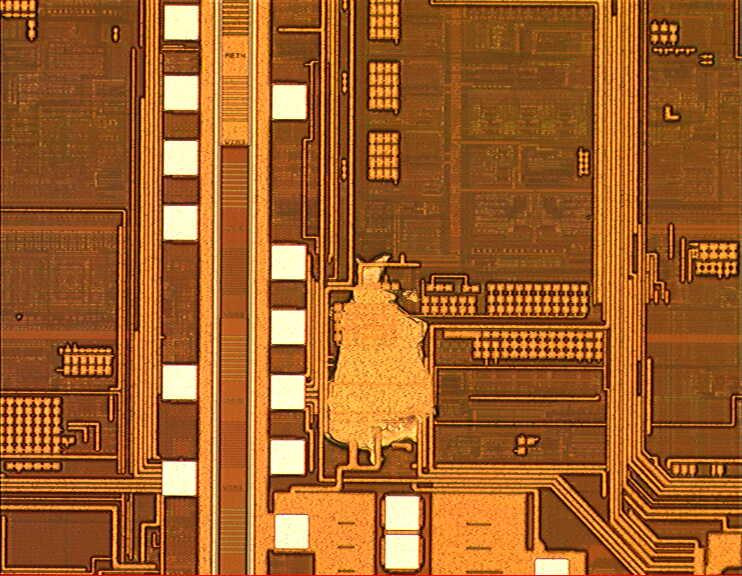BLOCK ETCH: (317, 248, 441, 458)
